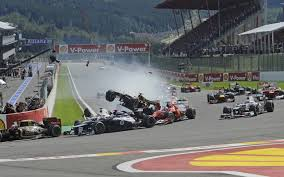FormulaOneCar: (66, 113, 156, 139), (218, 92, 276, 122), (2, 116, 63, 144), (153, 101, 203, 128), (203, 87, 237, 105), (180, 80, 206, 95)
